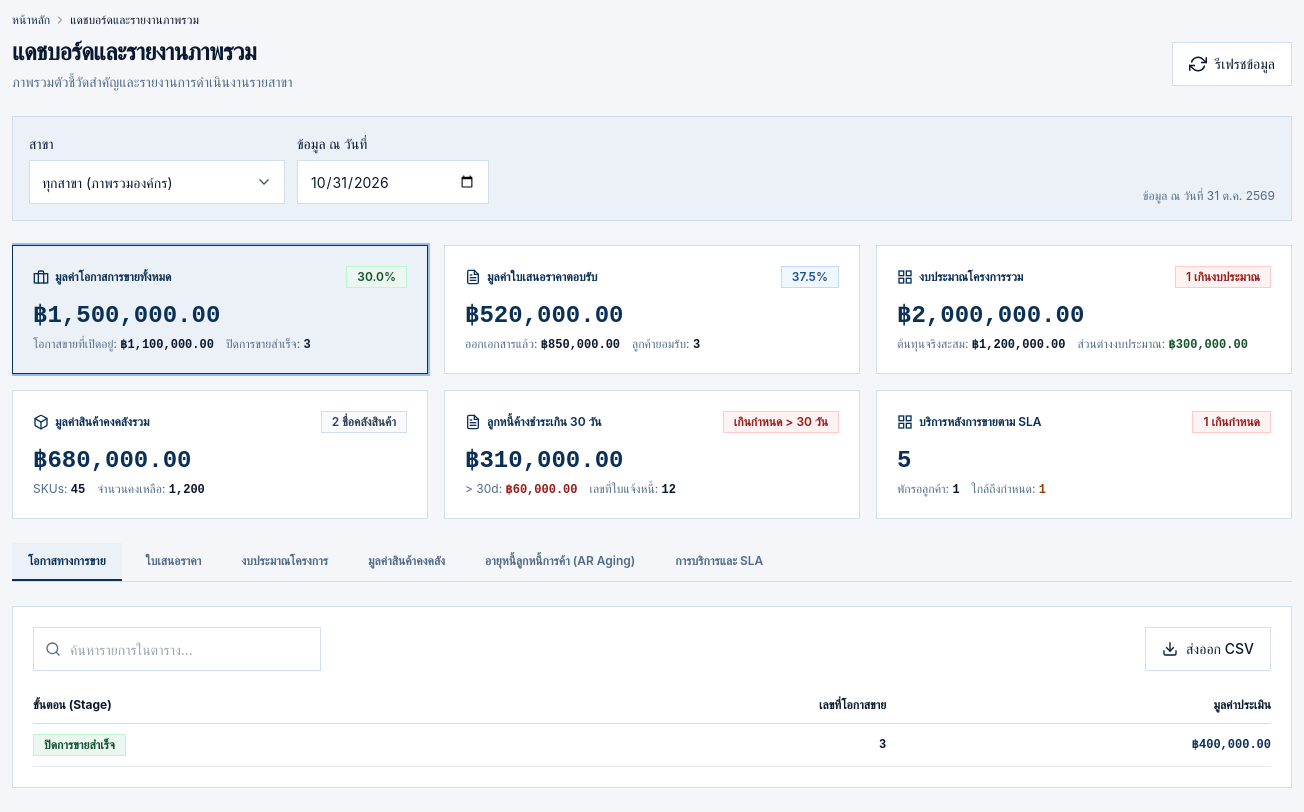
Test: DashboardPage Component › Test 1: Full-permission user sees all 6 KPI cards with expected formatted numbers & switches tabs across the 6 reports
Expected: the text "มูลค่าโอกาสการขายทั้งหมด" is shown, [33, 269, 171, 285]
Expected: the text "มูลค่าใบเสนอราคาตอบรับ" is shown, [465, 269, 598, 285]
# Switch to Quotations Tab
Click the button "ใบเสนอราคา" at (173, 562), box [130, 543, 217, 581]
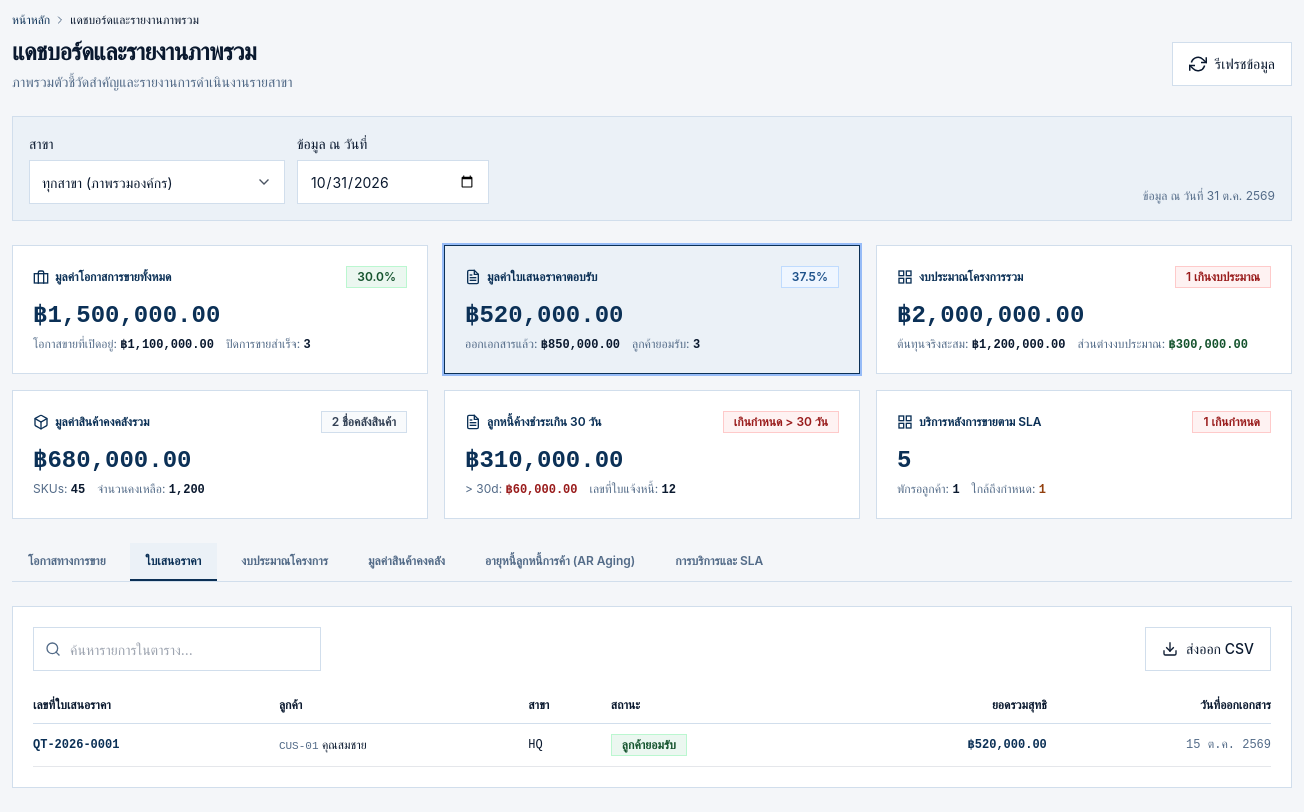
Expected: the text "QT-2026-0001" is shown, [33, 724, 279, 766]
Expected: the text "คุณสมชาย" is shown, [322, 736, 367, 752]
# Switch to Project Budget Tab
Click the button "งบประมาณโครงการ" at (285, 562), box [225, 543, 344, 581]
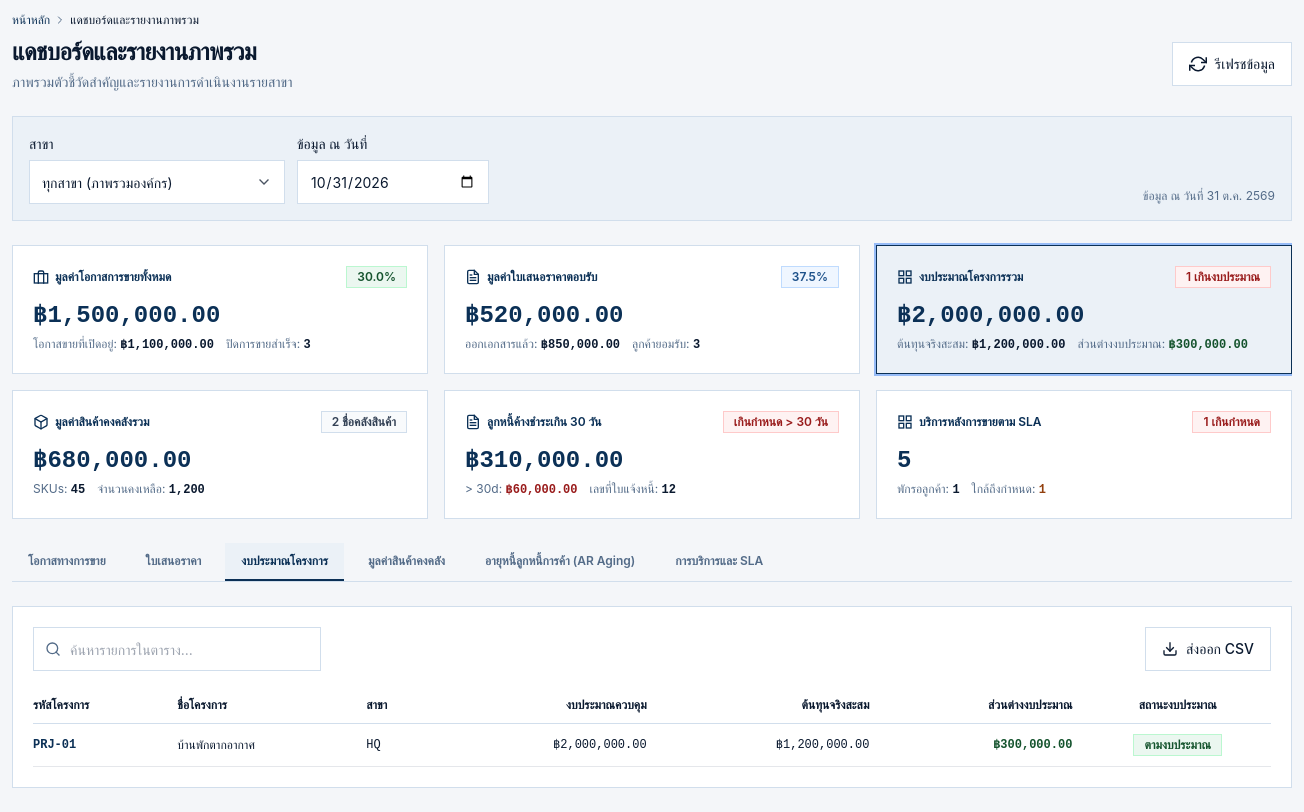
Expected: the text "PRJ-01" is shown, [33, 724, 177, 766]
Expected: the text "บ้านพักตากอากาศ" is shown, [177, 724, 366, 766]
# Switch to Stock Value Tab
Click the button "มูลค่าสินค้าคงคลัง" at (407, 562), box [352, 543, 461, 581]
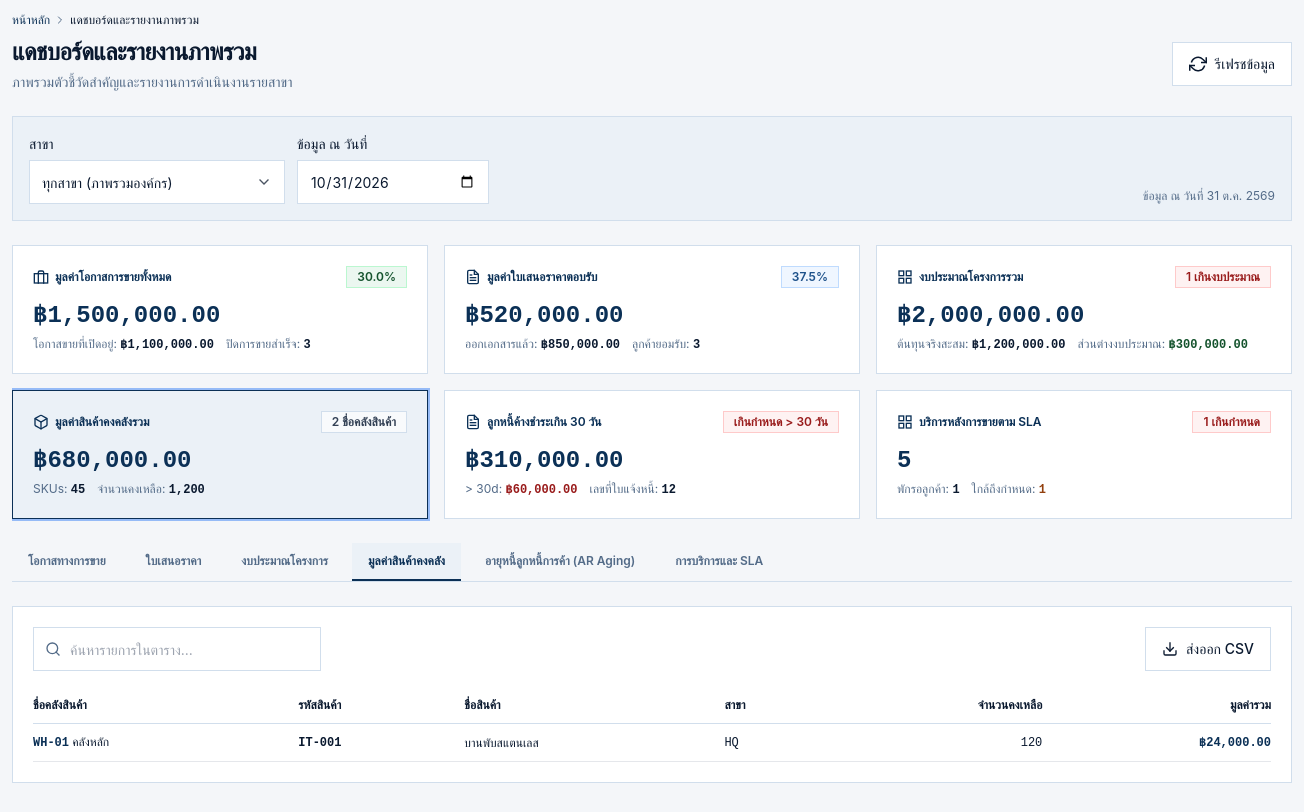
Expected: the text "WH-01" is shown, [33, 736, 69, 750]
Expected: the text "บานพับสแตนเลส" is shown, [464, 724, 724, 762]
# Switch to AR Aging Tab
Click the button "อายุหนี้ลูกหนี้การค้า (AR Aging)" at (560, 562), box [469, 543, 651, 581]
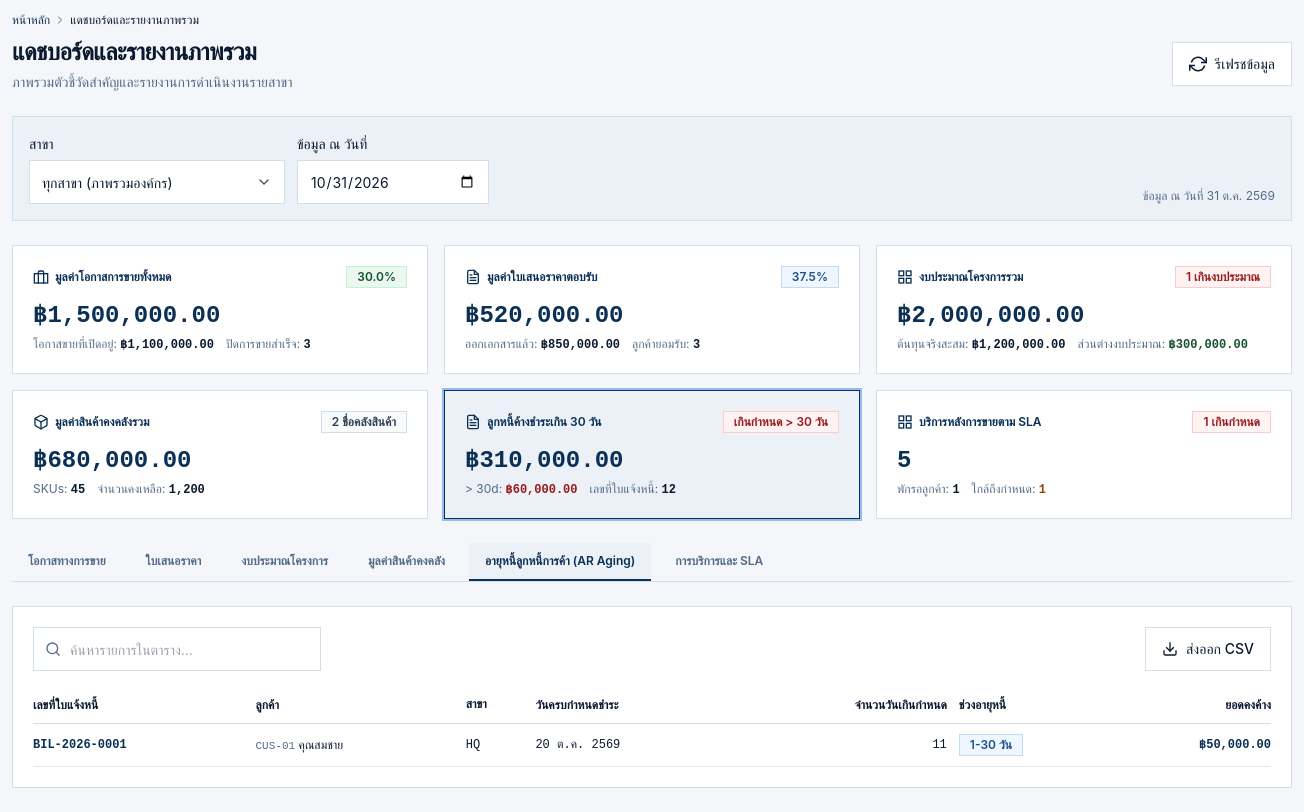
Expected: the text "BIL-2026-0001" is shown, [33, 724, 256, 766]
Expected: the text "1-30 วัน" is shown, [959, 734, 1023, 756]
# Switch to Service SLA Tab
Click the button "การบริการและ SLA" at (719, 562), box [659, 543, 779, 581]
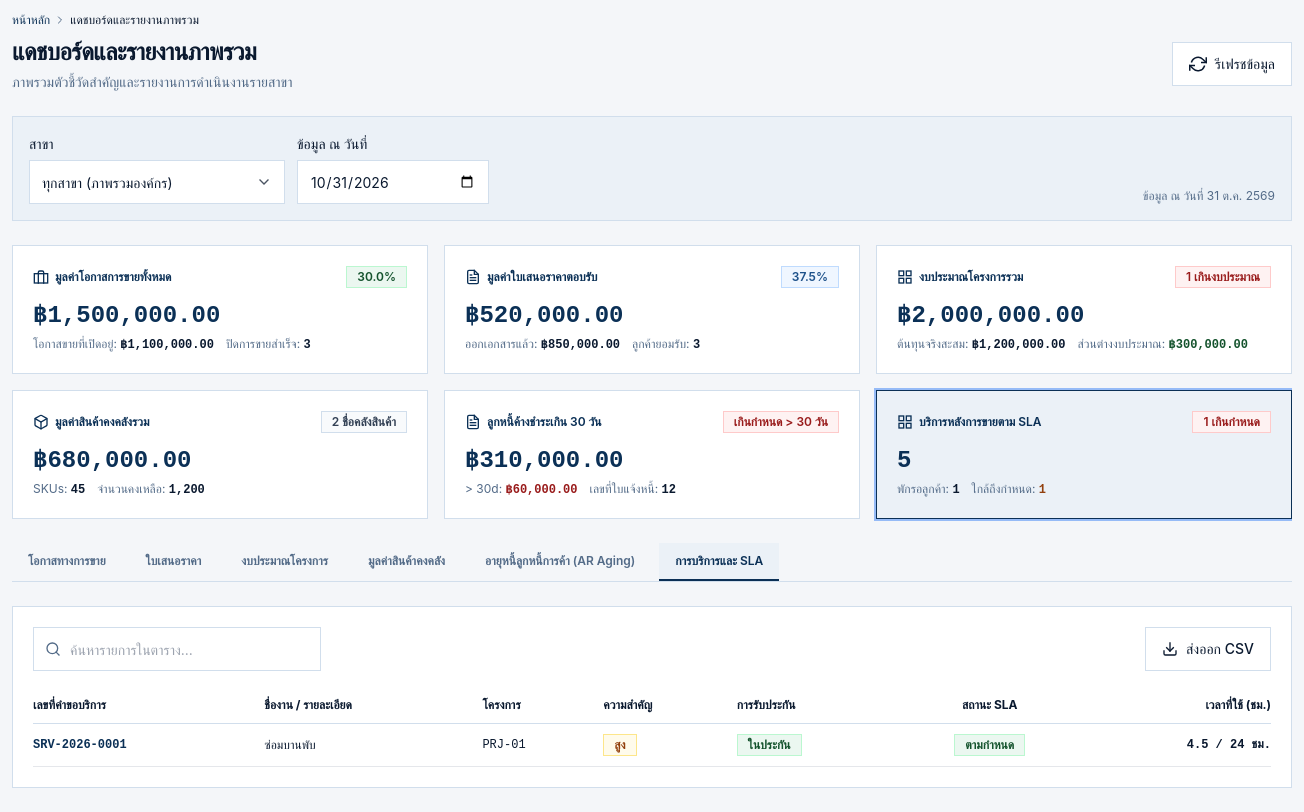
Expected: the text "SRV-2026-0001" is shown, [33, 724, 264, 766]
Expected: the text "ซ่อมบานพับ" is shown, [264, 724, 482, 766]
